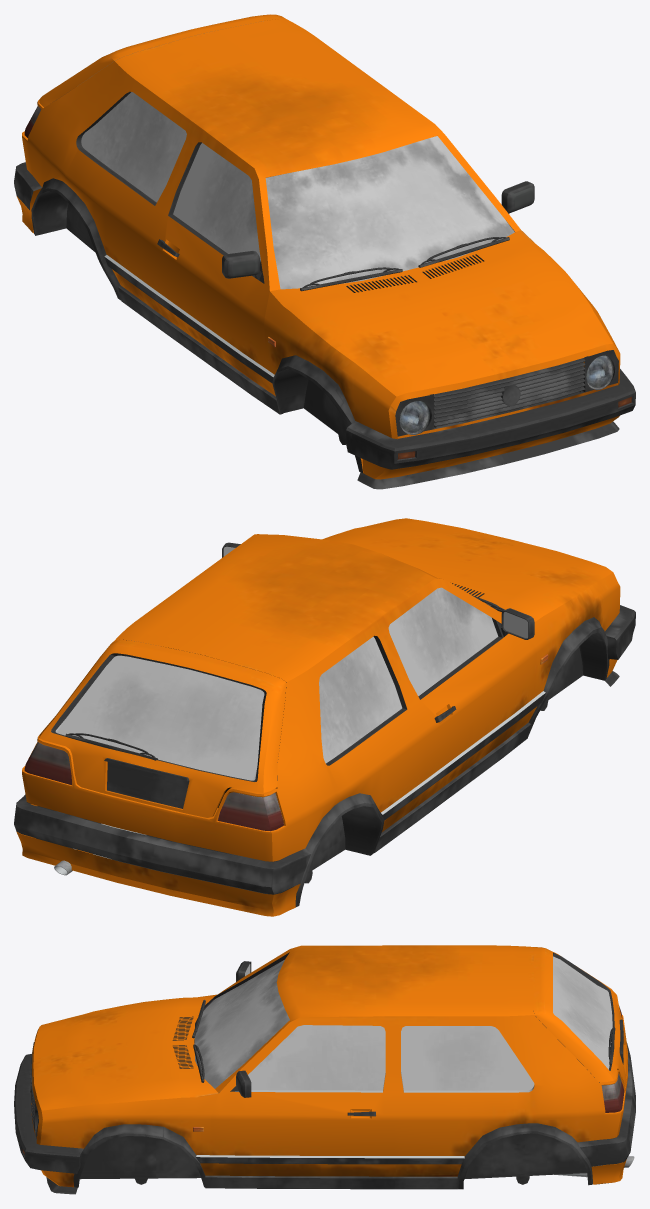
The model's file is cabin_golf.glb.
3 renders of one model, top to bottom at view 1: azimuth 30°, elevation 25°; view 2: azimuth 150°, elevation 25°; view 3: azimuth 270°, elevation 25°, orthographic. The views are drawn at different scales.
Visible parts, largest first — view 1: cabin; view 2: cabin; view 3: cabin.
Boxes of the visible parts, box(x1,y1,x2,y2) form: cabin: box(14, 14, 635, 489); cabin: box(14, 518, 635, 916); cabin: box(14, 945, 635, 1194).
Bounding box in the file's own units: 1.93 × 1.24 × 4.13.
Materials: 8 (7 with a texture image).
